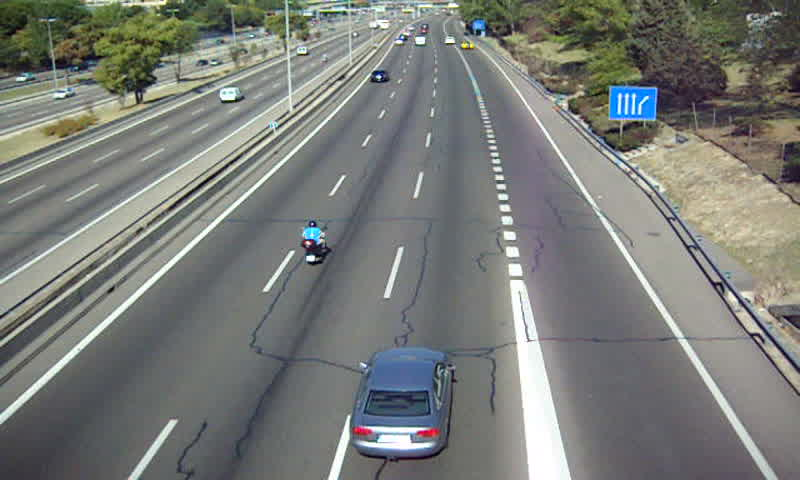car: (350, 351, 452, 459), (369, 68, 389, 85)
motorcycle: (299, 220, 328, 264)
